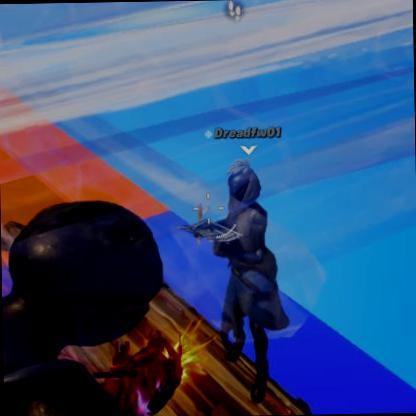person: (0, 196, 170, 416), (200, 156, 293, 398)
